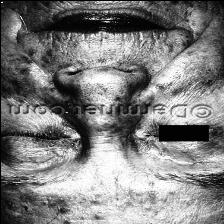Non-Cancerous Skin Condition: (0, 56, 52, 96), (43, 196, 105, 224), (153, 70, 218, 96), (142, 0, 196, 7)
